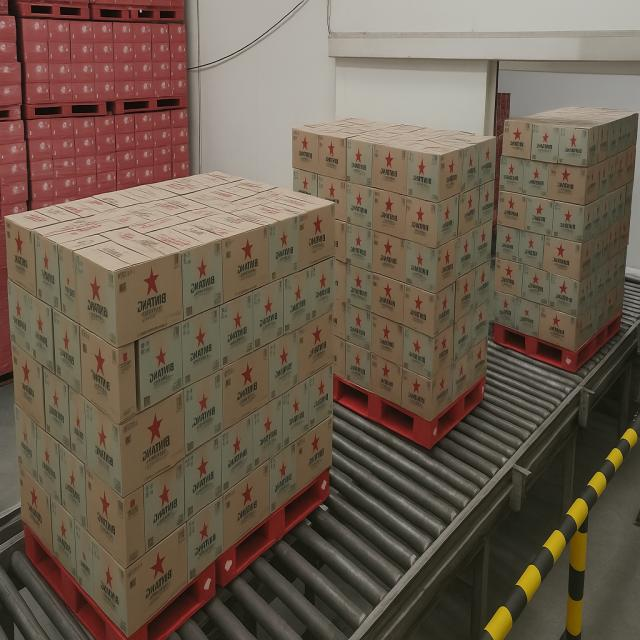pallet: (2, 158, 334, 640), (293, 113, 498, 448), (492, 109, 640, 369)
